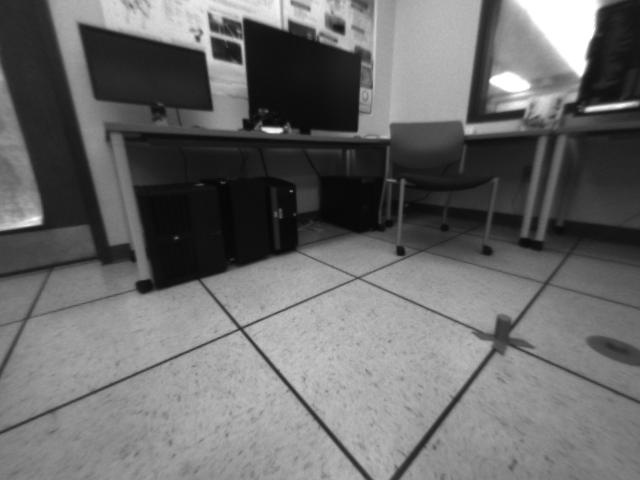X: (471, 313, 537, 355)
